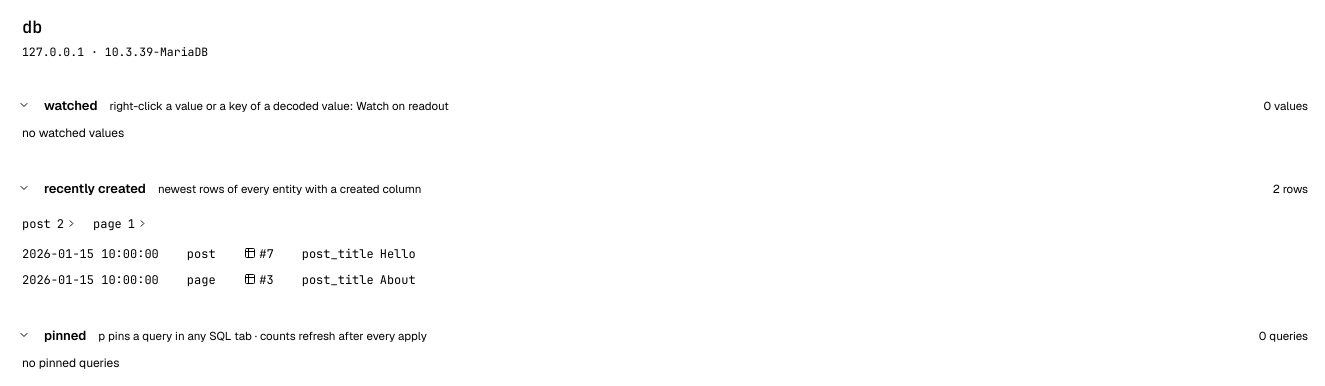
Test case: Readout › recently created › hides the lines of an entity when its chip is toggled off and shows them again when toggled on
Expected: the element named "Status" is shown, [22,16,208,59]
Click the button "post 2": (41,224) [16,213,66,235]
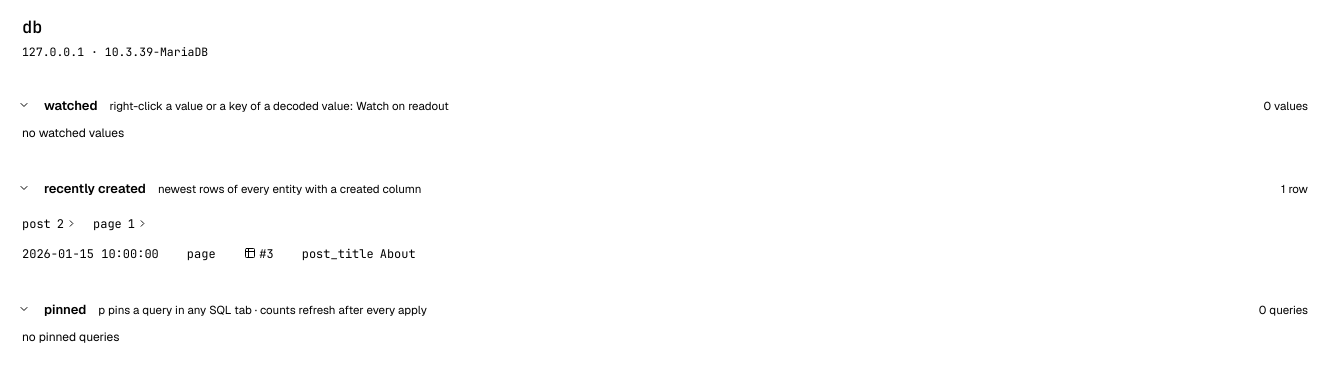
Expected: the text "About" is shown, [380,244,416,264]
Expected: the text "Hello" is gone
Click the button "post 2": (41,224) [16,213,66,235]
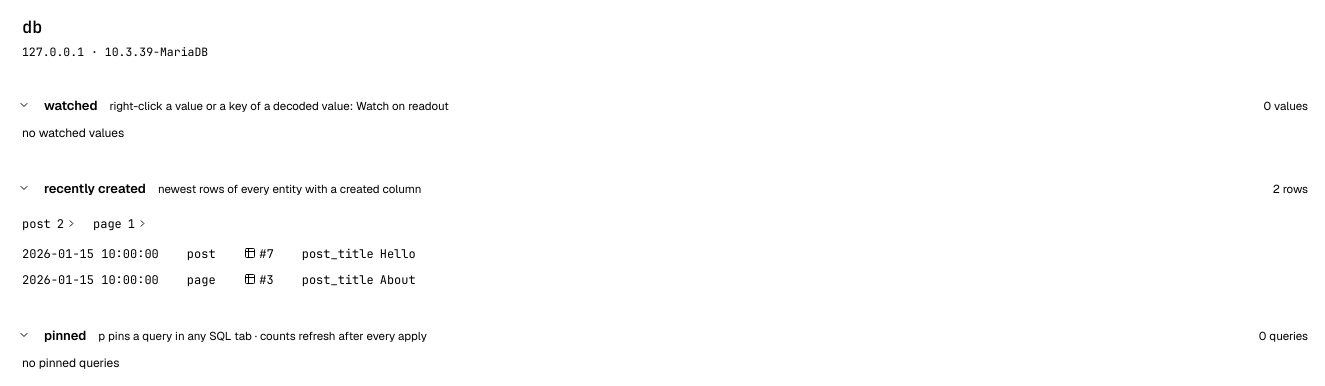
Expected: the text "Hello" is shown, [380,244,416,264]
